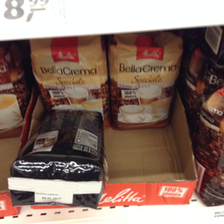coffee: (8, 105, 107, 208), (107, 34, 183, 131), (29, 38, 109, 117)
